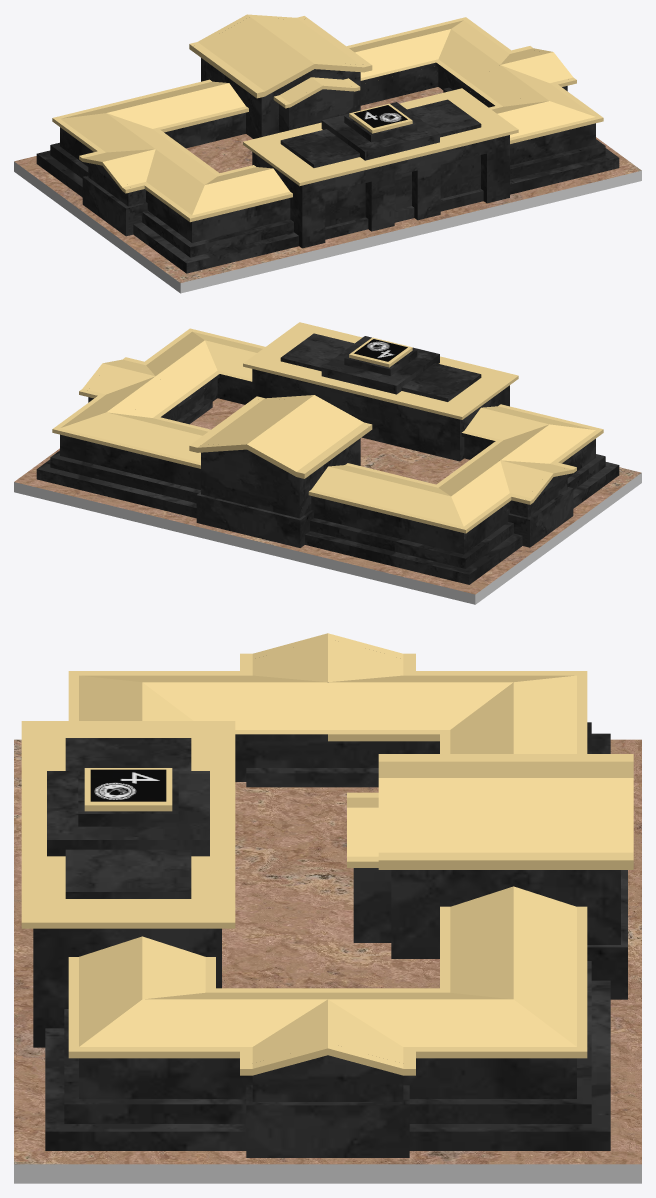
File: buildingBodegaReal.glb
The picture shows the model from 3 angles, top to bottom: view 1: azimuth 30°, elevation 25°; view 2: azimuth 150°, elevation 25°; view 3: azimuth 270°, elevation 25°; orthographic projection. The views are drawn at different scales.
Visible parts, largest first — view 1: BodegaReal; view 2: BodegaReal; view 3: BodegaReal.
Boxes of the visible parts, <box> form: BodegaReal: <box>14,14,641,293</box>; BodegaReal: <box>14,322,641,604</box>; BodegaReal: <box>14,633,641,1183</box>.
Size of the model in its own units: 8 by 1.7 by 5.
Materials: 5 (3 with a texture image).
